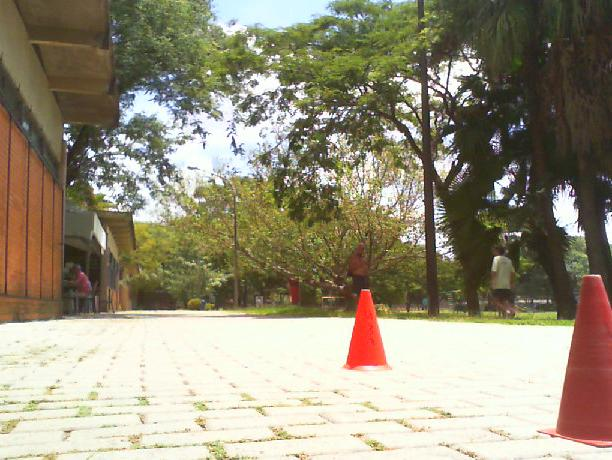0 cone: (541, 274, 612, 448), (344, 290, 394, 373)
